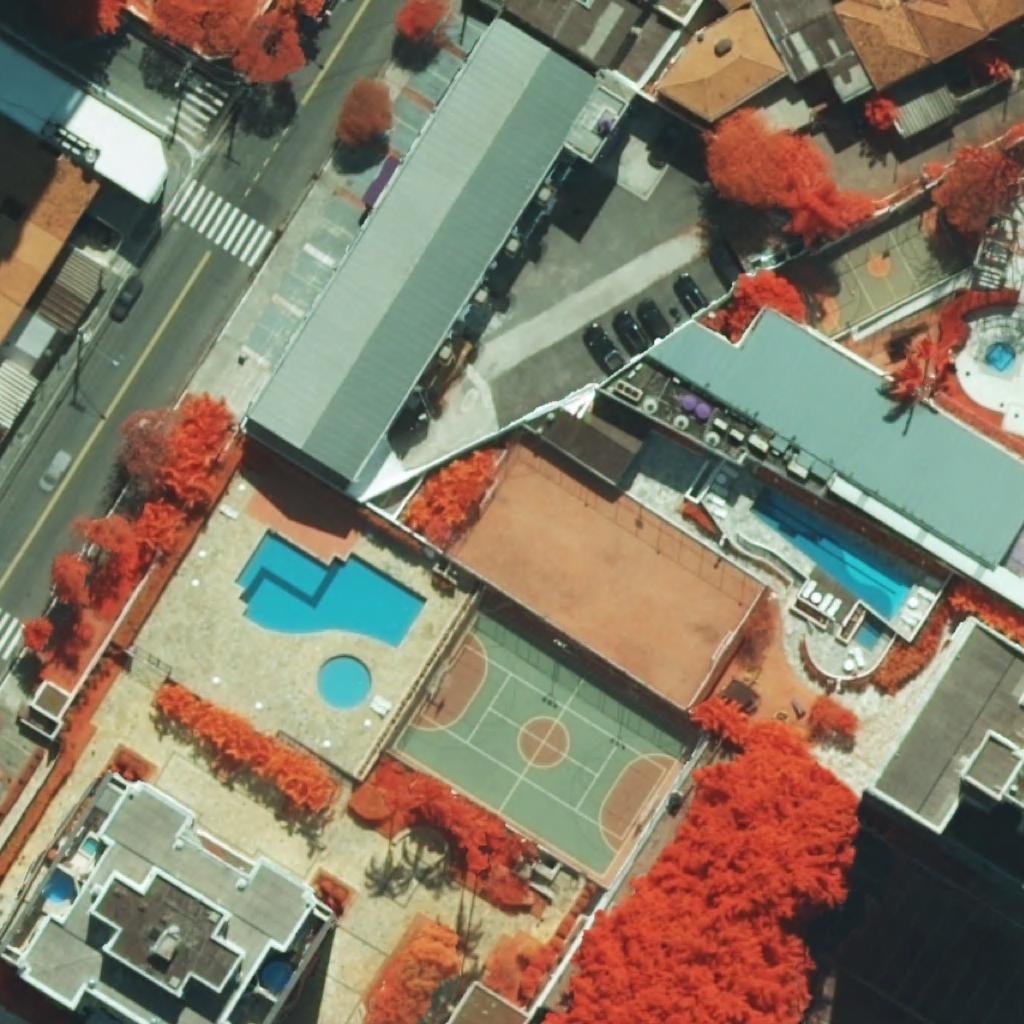pool: (234, 529, 428, 649), (749, 485, 913, 622), (317, 655, 371, 709), (43, 868, 71, 903), (985, 341, 1016, 372), (262, 961, 292, 993), (852, 620, 882, 652), (82, 836, 99, 855)
